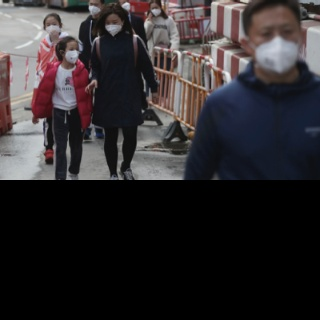with_mask: (250, 20, 300, 76), (104, 17, 122, 36), (64, 45, 80, 64), (45, 20, 60, 35), (88, 1, 101, 16), (150, 4, 161, 16), (120, 0, 131, 11)
